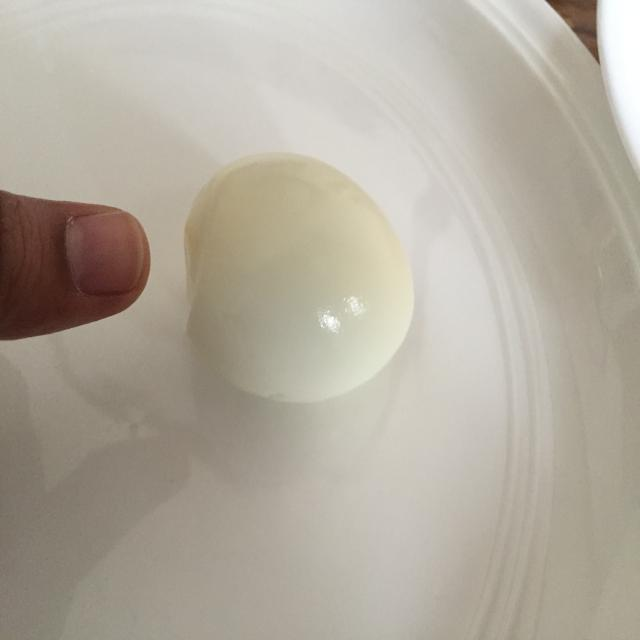Egg: (164, 146, 424, 411)
Finger: (0, 180, 156, 350)
